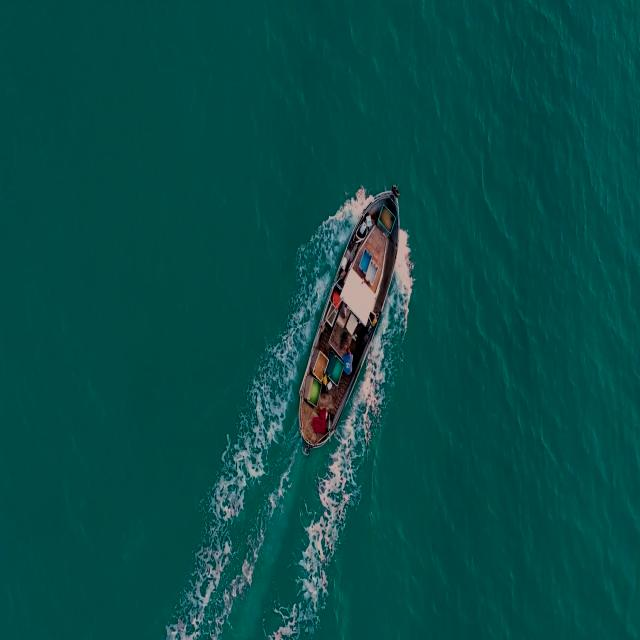ship: (292, 186, 404, 456)
